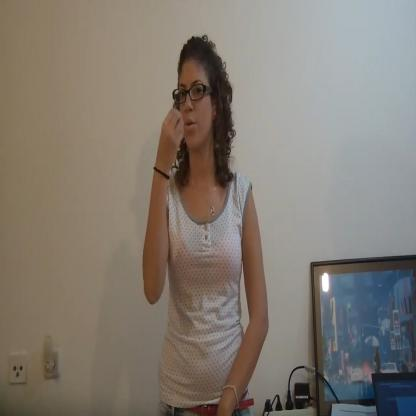Food: (142, 36, 270, 412)
